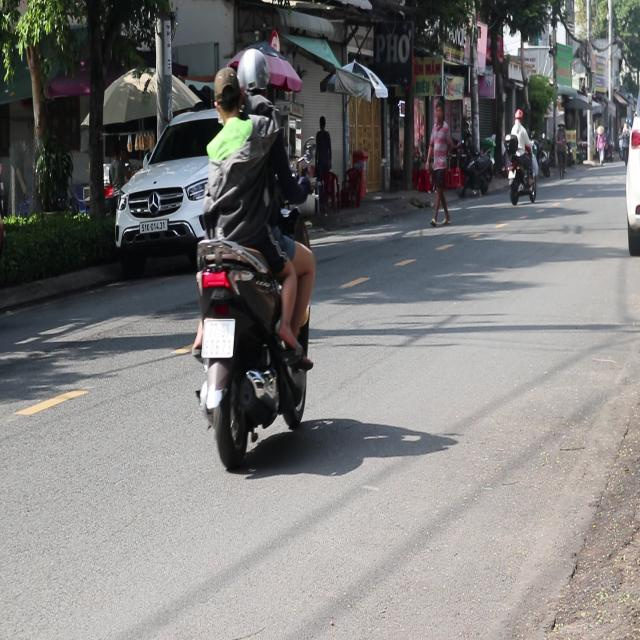helmet: (236, 45, 271, 111)
licenseplate: (186, 42, 319, 471)
motorcyclist: (212, 63, 241, 123)
nohelmet: (202, 318, 234, 356)
